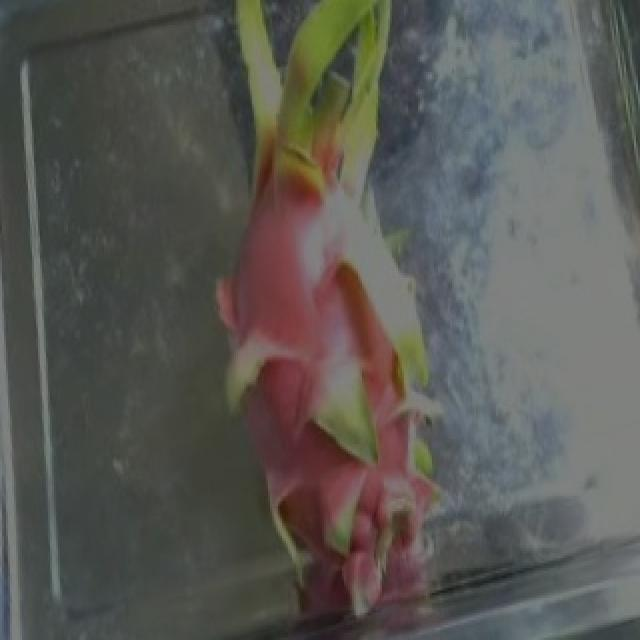fruit: (152, 166, 544, 630)
